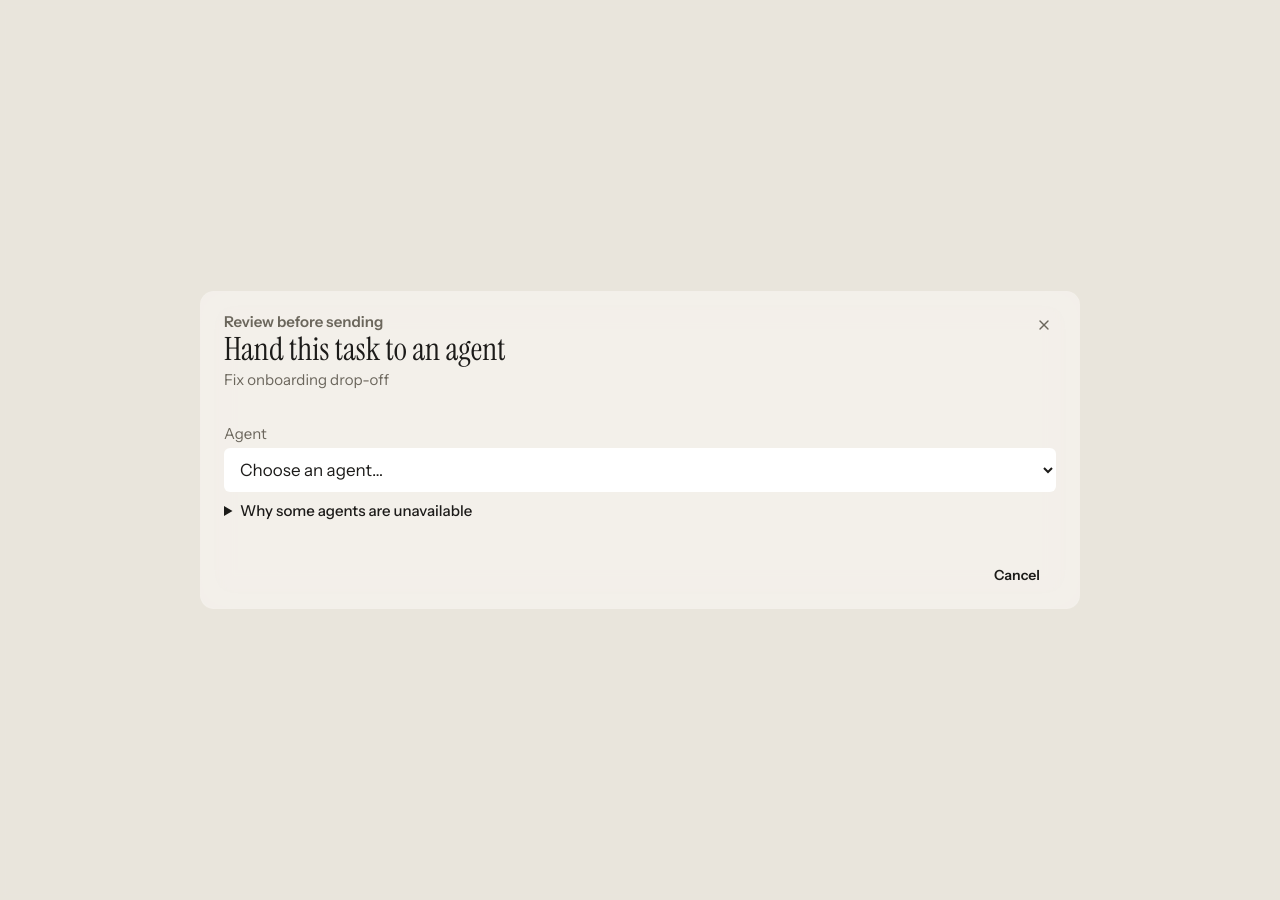
Test: AgentHandoffOverlay › itemises every value that will leave BrainBuddy
This screenshot has width=1280, height=900.
Select "Hermes — Tested ready" in the dropdown labelled "Agent" at (640, 470), box [224, 448, 1056, 492]
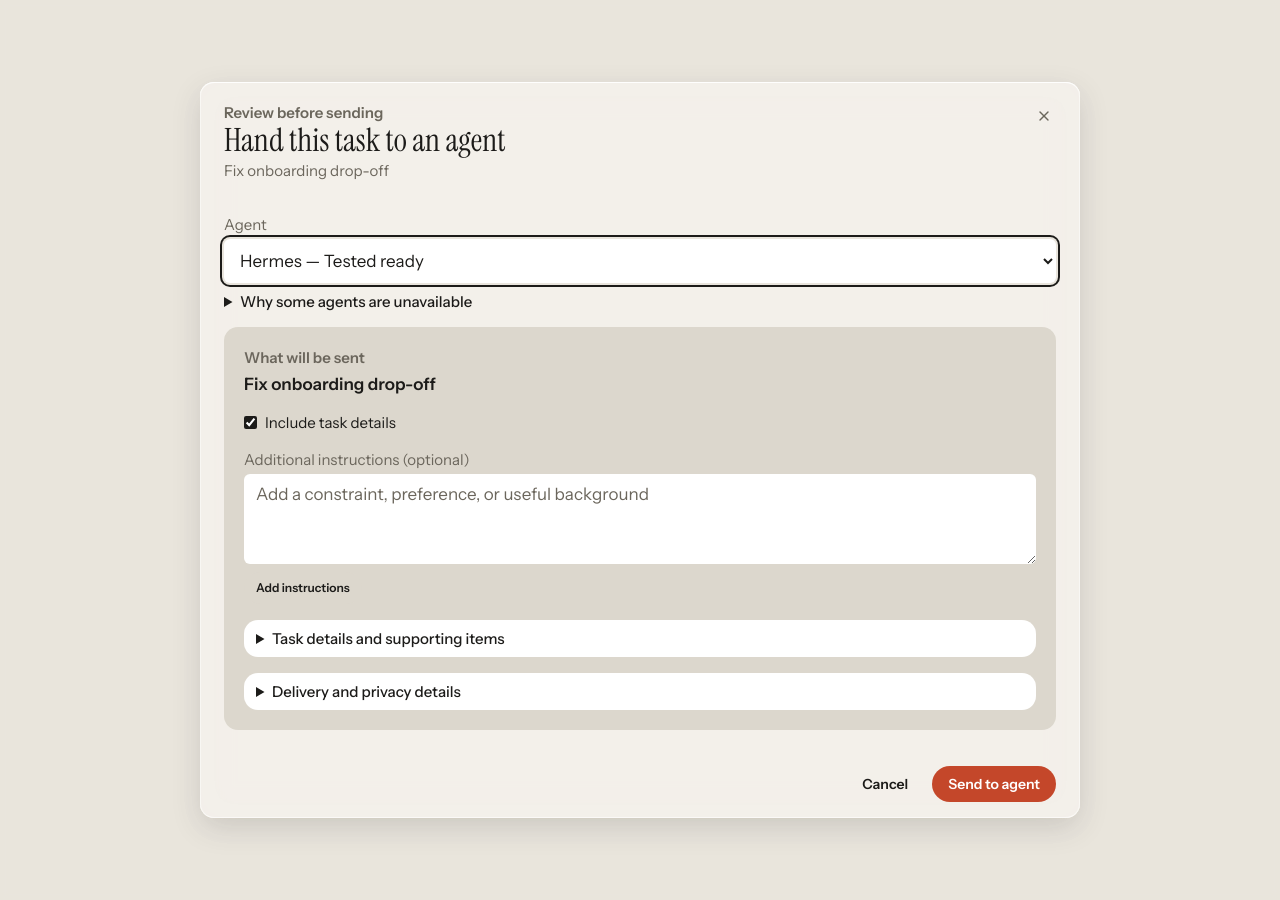
Now the heading "What will be sent" is shown, box [244, 348, 365, 367]
Click the heading "Task details and supporting items".
click(388, 639)  # box [272, 629, 505, 648]
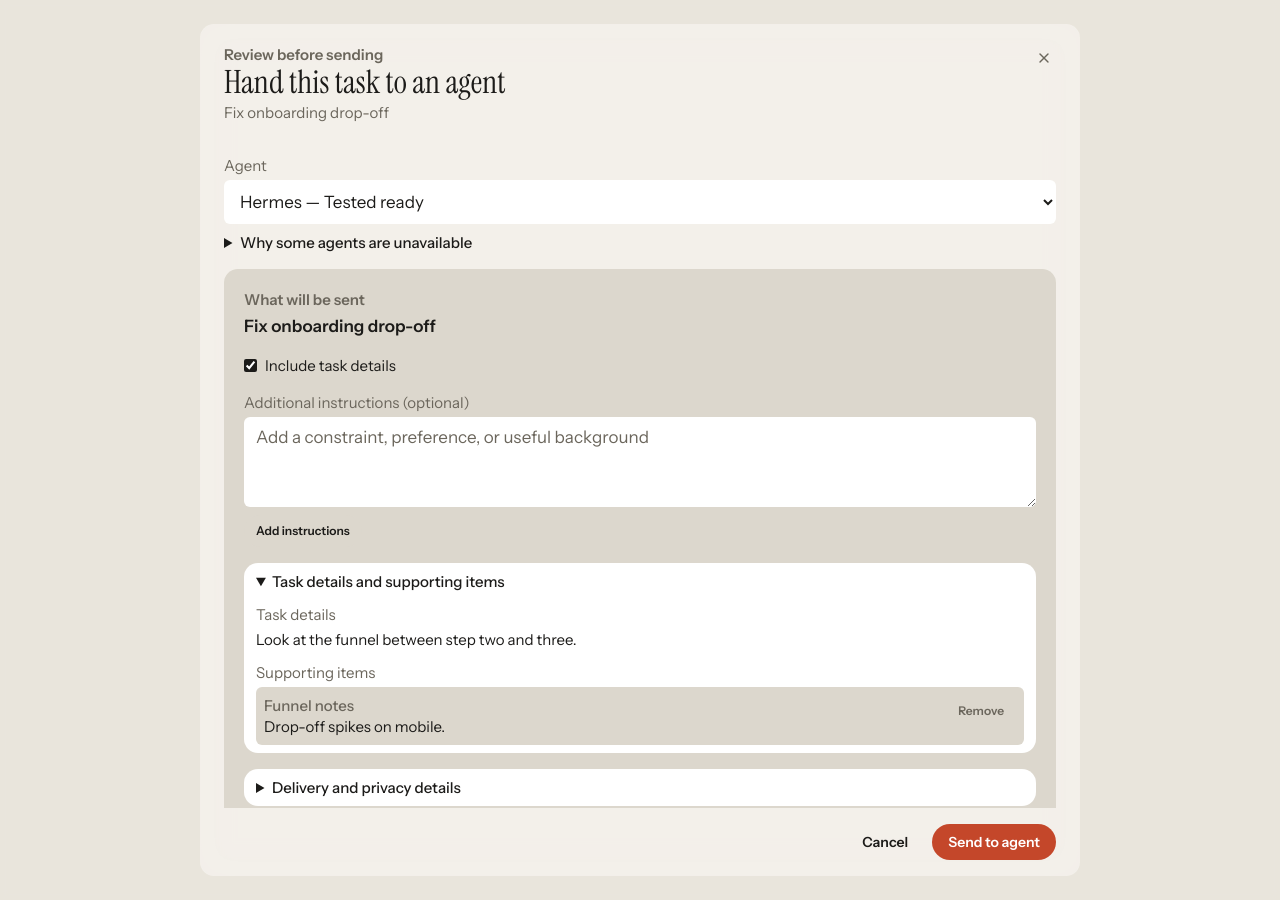
Click the heading "Delivery and privacy details".
click(366, 787)  # box [272, 778, 461, 797]
(page scrolled)
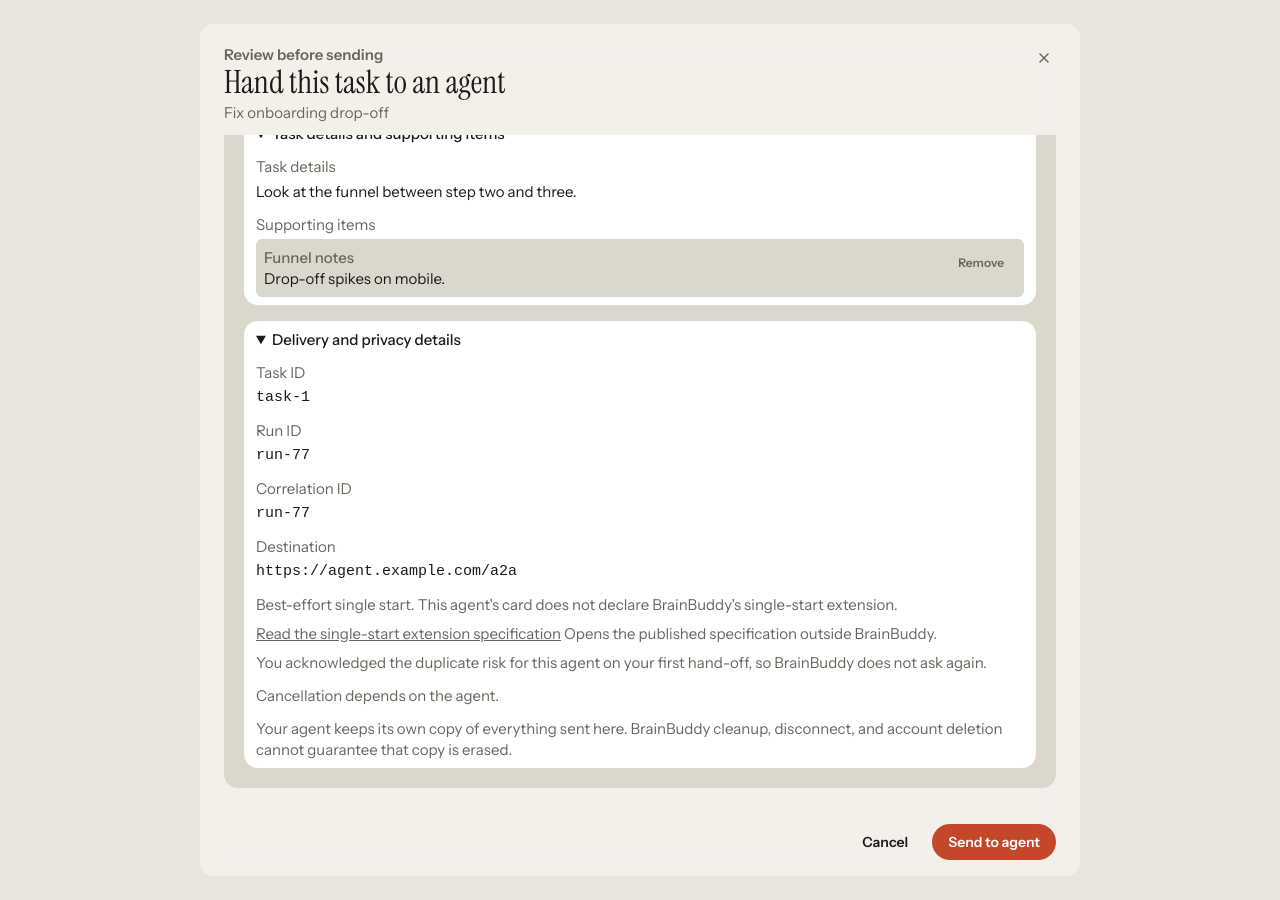
Now the text "Look at the funnel between step two and three." is shown, box [256, 182, 577, 201]
Now the text "Drop-off spikes on mobile." is shown, box [264, 269, 445, 288]
Now the text "task-1" is shown, box [256, 389, 310, 406]
